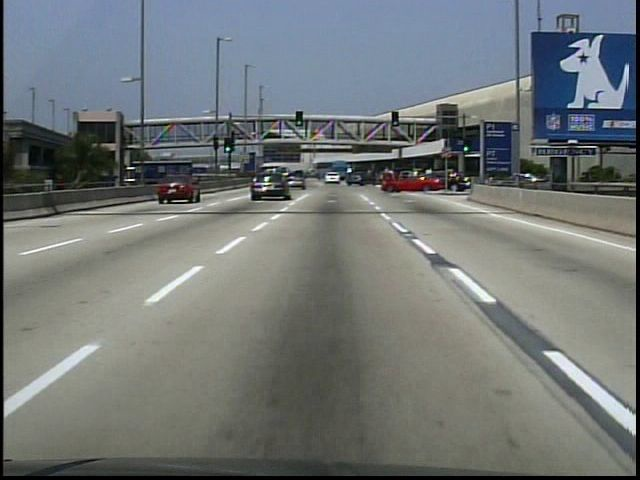person: (231, 130, 238, 144)
